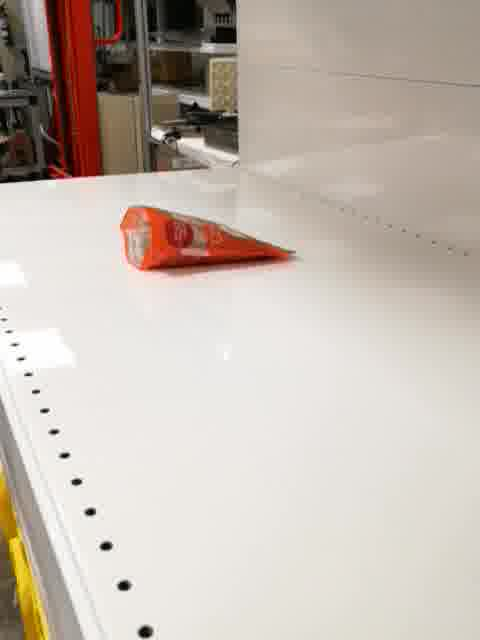whitechia: (119, 201, 300, 272)
